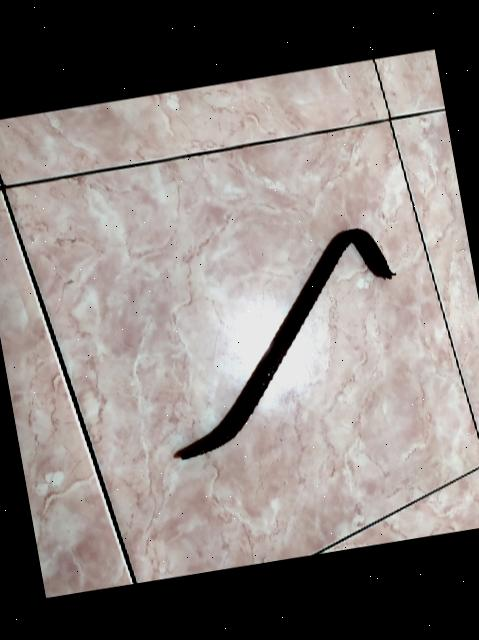crow bar: (159, 206, 406, 475)
